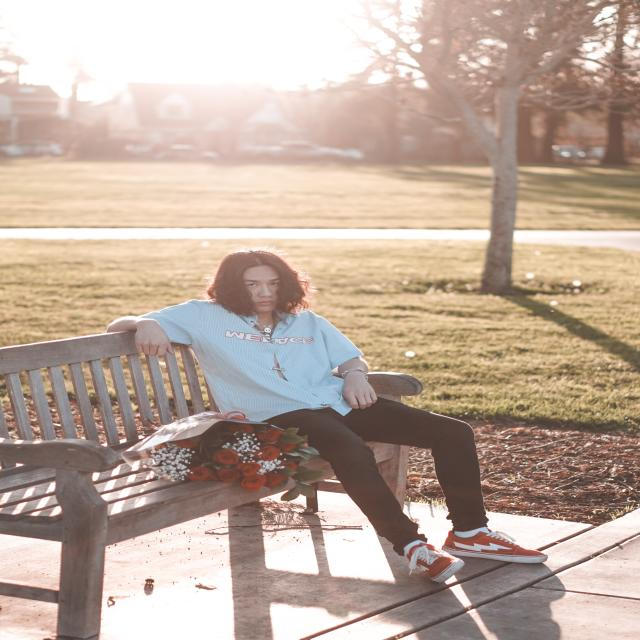nonfall: (172, 252, 564, 572)
